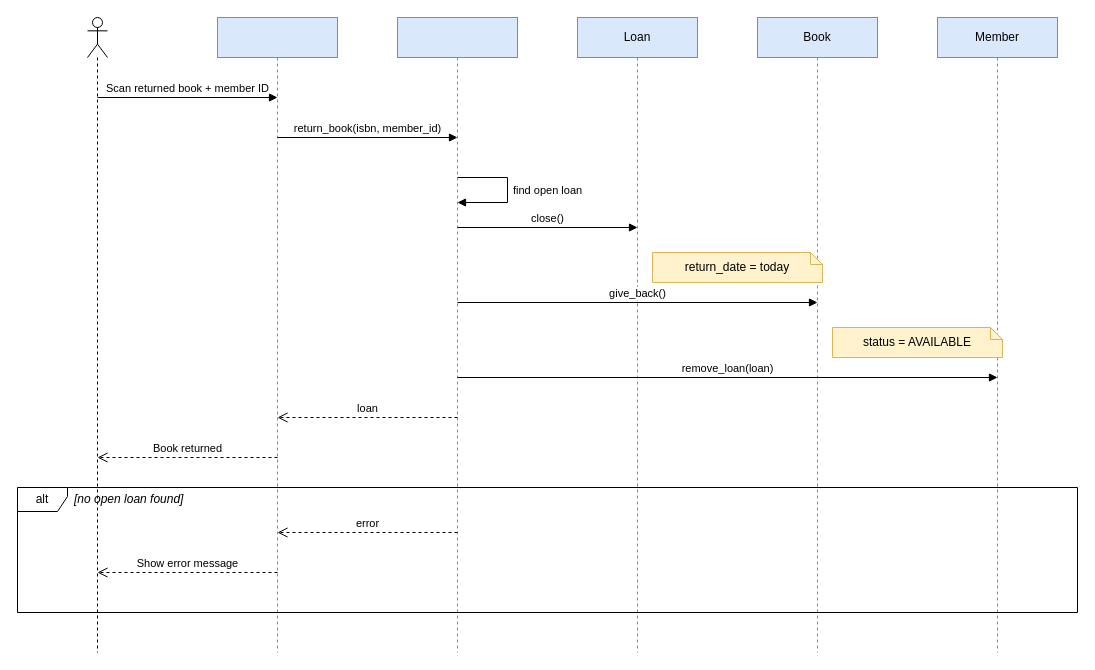
Some shapes in this 1095 by 670 pixel diagram are drawn without their labels. The box of each missing label's shape, as (x1, y1, x2, y2) in pixels:
Librarian: (86, 16, 108, 652)
Librarian Dashboard: (216, 16, 338, 652)
Library: (396, 16, 518, 652)
